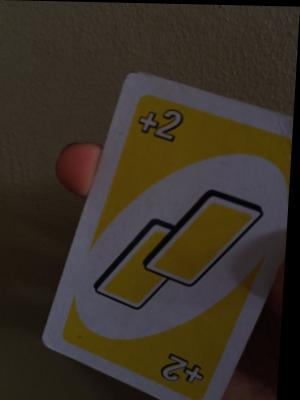-2: (130, 99, 205, 179), (150, 344, 217, 390)
yellow: (100, 181, 262, 340)
